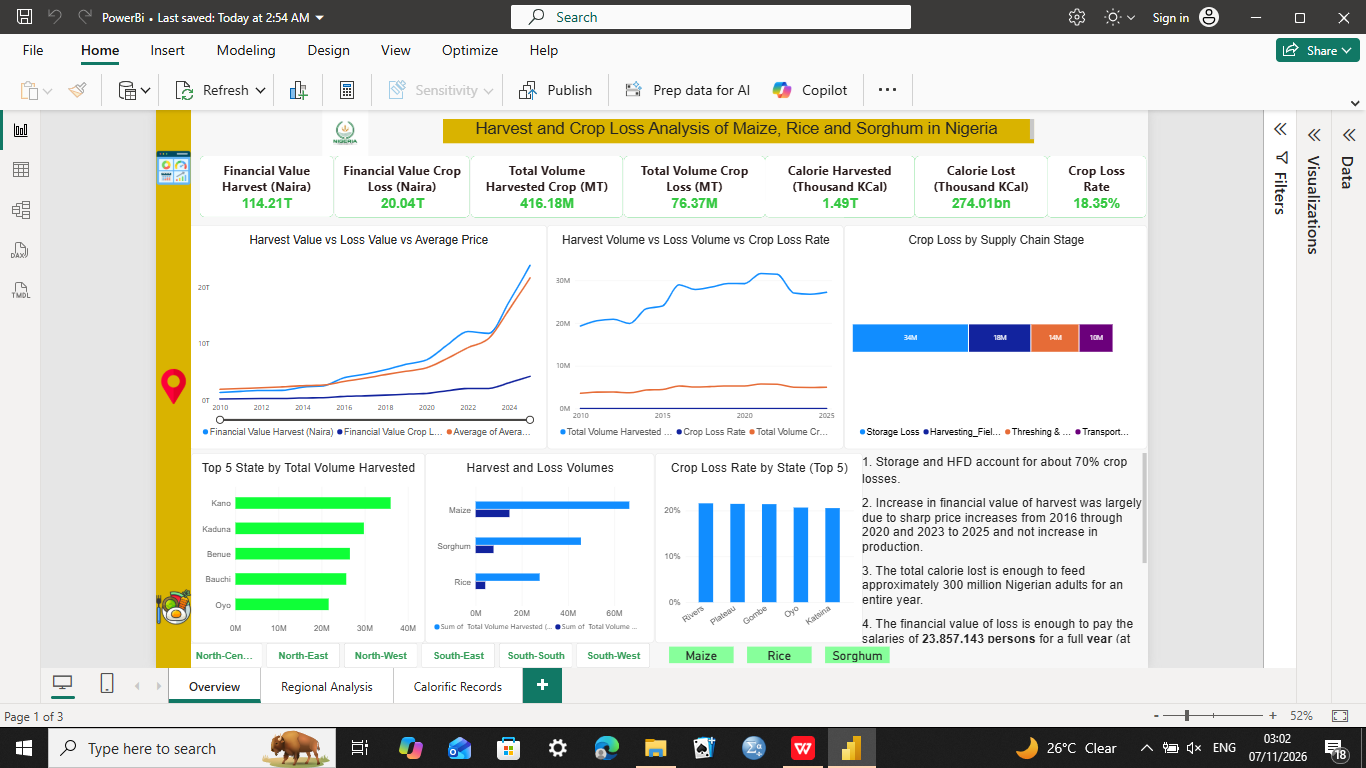

Layout of this report page (visuals, bound fields, positions):
{"tool":"powerbi","page":{"name":"Overview","canvas":[1920,1080],"ordinal":0},"visuals":[{"type":"shape","box":[1.8,0,58.5,1079.2],"z":0,"group":"g5"},{"type":"group","id":"g1","title":"Group 1","box":[60,225,1860,137.5],"z":0},{"type":"cardVisual","fields":{"Data":["Measure Table.Crop Loss Rate"]},"box":[1724.3,225,195.7,137.6],"z":0,"group":"g6"},{"type":"image","box":[0,89.5,60.2,186.8],"z":1000,"group":"g5"},{"type":"cardVisual","fields":{"Data":["Measure Table.Financial Value Harvest"]},"box":[60,225,262.5,137.3],"z":1000,"group":"g6"},{"type":"lineChart","title":"Value of Harvest (Naira) Versus Value of Loss (Naira) by Year","fields":{"Category":["RAW nigeria_crop_comprehensive_metrics_2010_2025.Year.Variation.Date Hierarchy.Year"],"Y":["Sum(RAW nigeria_crop_comprehensive_metrics_2010_2025.Value of Harvest (Naira))"],"Y2":["Sum(RAW nigeria_crop_comprehensive_metrics_2010_2025.Value of Loss (Naira))"]},"box":[136.2,392.9,931.5,583.3],"z":1000,"group":"g2"},{"type":"advancedSlicerVisual","fields":{"Values":["RAW nigeria_crop_comprehensive_metrics_2010_2025.Crop"]},"box":[1424.9,1016.3,492.4,62.9],"z":1000},{"type":"cardVisual","fields":{"Data":["Measure Table.Financial Value Loss"]},"box":[324.5,225,264.5,137.6],"z":2000,"group":"g6"},{"type":"image","box":[1.8,335.1,58.5,169.5],"z":2000,"group":"g5"},{"type":"pieChart","title":"Post-Harvest Loss By Supply Chain Stage","fields":{"Y":["Sum(RAW nigeria_crop_comprehensive_metrics_2010_2025. Harvesting & Field Drying Loss (MT) )","Sum(RAW nigeria_crop_comprehensive_metrics_2010_2025. Storage Loss (MT) )","Sum(RAW nigeria_crop_comprehensive_metrics_2010_2025. Threshing & Cleaning Loss (MT) )","Sum(RAW nigeria_crop_comprehensive_metrics_2010_2025. Transportation Loss (MT) )"]},"box":[1084.8,393.4,834.8,582.2],"z":2000,"group":"g2"},{"type":"advancedSlicerVisual","fields":{"Values":["RAW nigeria_crop_comprehensive_metrics_2010_2025.Region"]},"box":[60.2,1016.3,1115.9,62.9],"z":2000},{"type":"cardVisual","fields":{"Data":["Measure Table.Total Calorific Loss"]},"box":[1464.1,225,260.2,137.6],"z":3000,"group":"g6"},{"type":"group","id":"g2","title":"Group 3","box":[136.2,392.9,1783.8,581.5],"z":3000},{"type":"image","box":[0,611.7,60.2,155.6],"z":3000,"group":"g5"},{"type":"group","id":"g3","title":"Group 4","box":[0,0,60.2,1079.2],"z":3002,"group":"g4"},{"type":"group","id":"g4","title":"Group 1","box":[0,0,60.2,1079.2],"z":4000},{"type":"cardVisual","fields":{"Data":["Measure Table.Total Calorific Value Harvest"]},"box":[1169.4,225,294.6,137.6],"z":4000,"group":"g6"},{"type":"image","box":[1.8,829.6,58.5,186.8],"z":4000,"group":"g5"},{"type":"group","id":"g5","title":"Group 5","box":[0,0,60.2,1079.2],"z":4001,"group":"g3"},{"type":"image","box":[60.2,0,353.6,204.3],"z":5000},{"type":"cardVisual","fields":{"Data":["Measure Table.Total Volume Harvested Crop"]},"box":[593.1,225,298.9,137.6],"z":5000,"group":"g6"},{"type":"group","id":"g6","title":"Group 2","box":[60,225,1860,137.6],"z":5001,"group":"g1"},{"type":"cardVisual","fields":{"Data":["Measure Table.Total Volume Post-Harvest Loss"]},"box":[892,225,277.4,137.6],"z":6000,"group":"g6"},{"type":"textbox","box":[60,612,872,156],"z":6000},{"type":"textbox","box":[60,830,872,186],"z":7000},{"type":"textbox","box":[949,612,835,156],"z":8000},{"type":"textbox","box":[949,830,835,186],"z":9000},{"type":"textbox","box":[342.5,0,1557.5,52.5],"z":10000}]}

Visuals, with their boxes on the page's 1920x1080 design canvas (x1, y1, x2, y2). These are canvas units, not pixel positions in the 1366x768 screenshot, which may show the page scaled, cropped or inside an application window:
shape: (x1=2, y1=0, x2=60, y2=1079)
"Group 1" group: (x1=60, y1=225, x2=1920, y2=362)
cardVisual - Measure Table.Crop Loss Rate: (x1=1724, y1=225, x2=1920, y2=363)
image: (x1=0, y1=90, x2=60, y2=276)
cardVisual - Measure Table.Financial Value Harvest: (x1=60, y1=225, x2=322, y2=362)
"Value of Harvest (Naira) Versus Value of Loss (Naira) by Year" lineChart: (x1=136, y1=393, x2=1068, y2=976)
advancedSlicerVisual - RAW nigeria_crop_comprehensive_metrics_2010_2025.Crop: (x1=1425, y1=1016, x2=1917, y2=1079)
cardVisual - Measure Table.Financial Value Loss: (x1=324, y1=225, x2=589, y2=363)
image: (x1=2, y1=335, x2=60, y2=505)
"Post-Harvest Loss By Supply Chain Stage" pieChart: (x1=1085, y1=393, x2=1920, y2=976)
advancedSlicerVisual - RAW nigeria_crop_comprehensive_metrics_2010_2025.Region: (x1=60, y1=1016, x2=1176, y2=1079)
cardVisual - Measure Table.Total Calorific Loss: (x1=1464, y1=225, x2=1724, y2=363)
"Group 3" group: (x1=136, y1=393, x2=1920, y2=974)
image: (x1=0, y1=612, x2=60, y2=767)
"Group 4" group: (x1=0, y1=0, x2=60, y2=1079)
"Group 1" group: (x1=0, y1=0, x2=60, y2=1079)
cardVisual - Measure Table.Total Calorific Value Harvest: (x1=1169, y1=225, x2=1464, y2=363)
image: (x1=2, y1=830, x2=60, y2=1016)
"Group 5" group: (x1=0, y1=0, x2=60, y2=1079)
image: (x1=60, y1=0, x2=414, y2=204)
cardVisual - Measure Table.Total Volume Harvested Crop: (x1=593, y1=225, x2=892, y2=363)
"Group 2" group: (x1=60, y1=225, x2=1920, y2=363)
cardVisual - Measure Table.Total Volume Post-Harvest Loss: (x1=892, y1=225, x2=1169, y2=363)
textbox: (x1=60, y1=612, x2=932, y2=768)
textbox: (x1=60, y1=830, x2=932, y2=1016)
textbox: (x1=949, y1=612, x2=1784, y2=768)
textbox: (x1=949, y1=830, x2=1784, y2=1016)
textbox: (x1=342, y1=0, x2=1900, y2=52)
